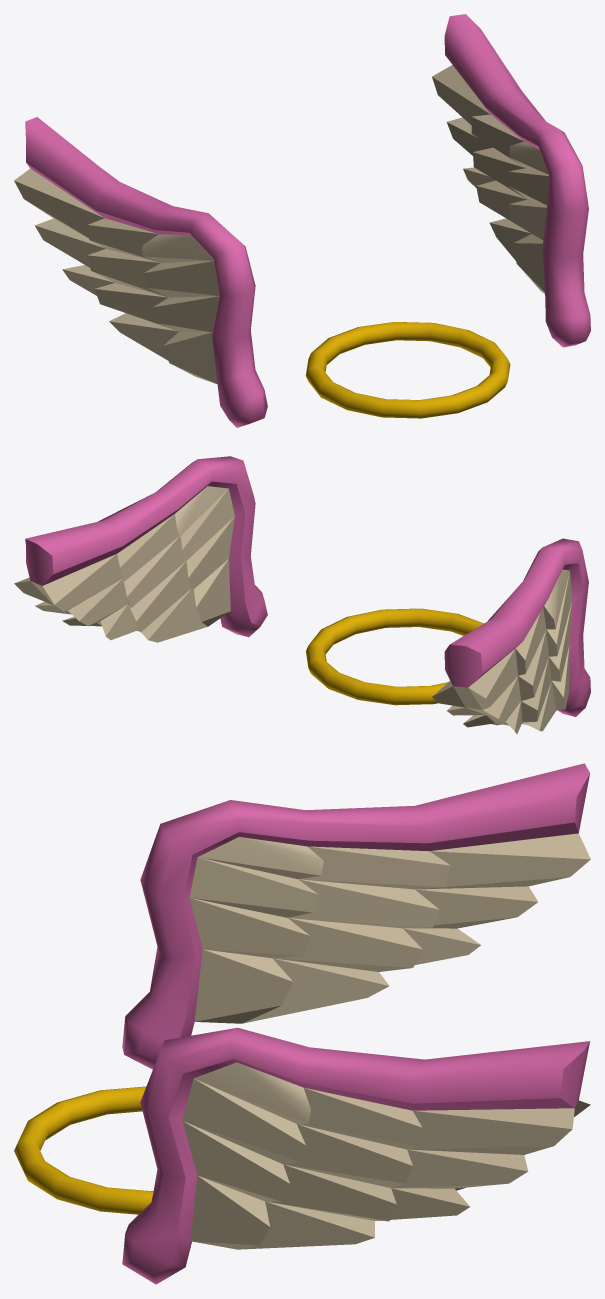
The model's file is Angel (2).fbx.
The picture shows the model from 3 angles, top to bottom: view 1: azimuth 30°, elevation 25°; view 2: azimuth 150°, elevation 25°; view 3: azimuth 270°, elevation 25°; orthographic projection. The views are drawn at different scales.
Visible parts, largest first — view 1: Angel_02, Angel_02.001, Angel_01; view 2: Angel_02.001, Angel_02, Angel_01; view 3: Angel_02, Angel_02.001, Angel_01.
Boxes of the visible parts, x1,y1,x2,y2 form: Angel_02: (14,117,267,427); Angel_02.001: (432,14,590,347); Angel_01: (305,322,510,418); Angel_02.001: (14,456,267,642); Angel_02: (432,538,590,734); Angel_01: (305,608,483,705); Angel_02: (122,763,590,1069); Angel_02.001: (122,1027,590,1284); Angel_01: (14,1086,153,1214).
Size of the model in its own units: 3.55 by 1.45 by 2.82.
